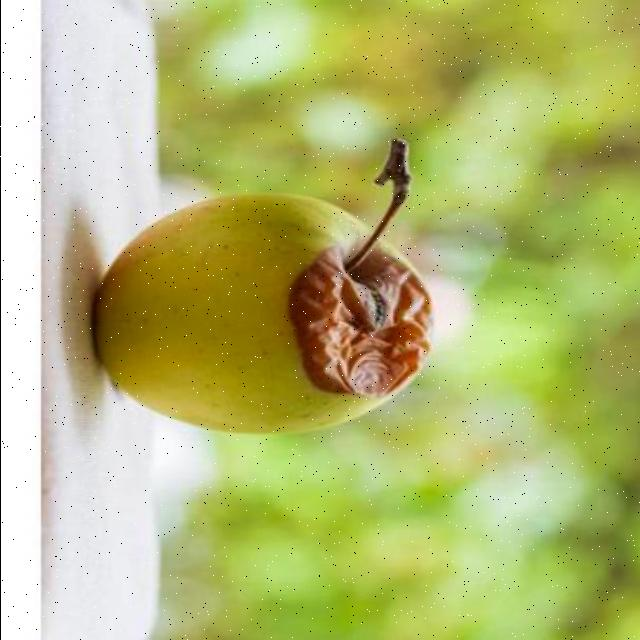ROT: (79, 174, 435, 467)
